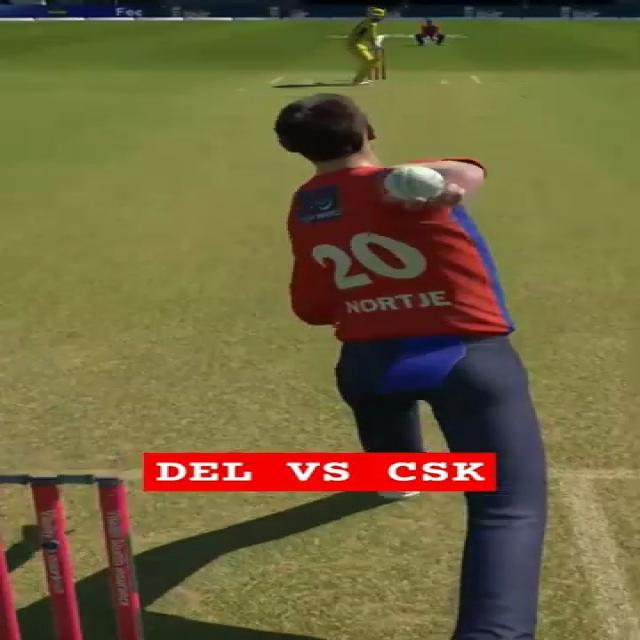ball: (380, 164, 444, 203)
